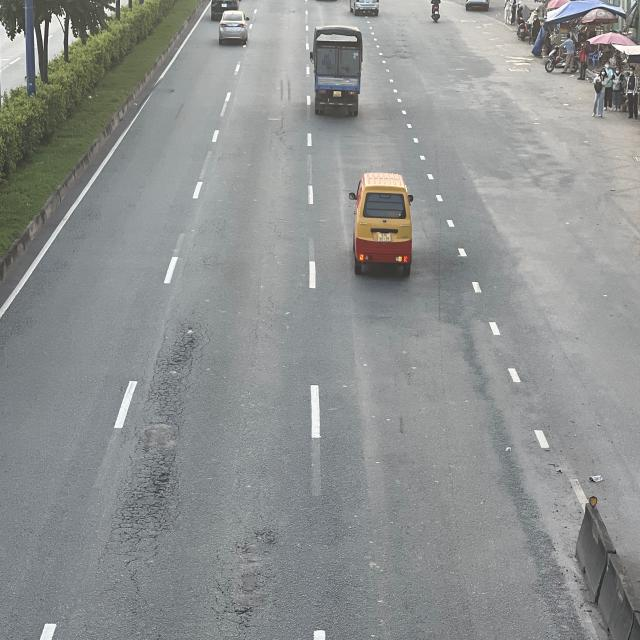car: (219, 10, 252, 45)
truck: (312, 28, 365, 118)
van: (348, 173, 413, 276)
